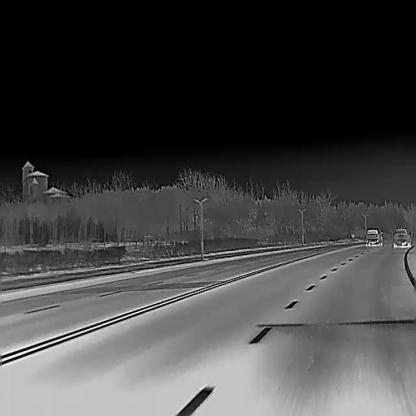car: (392, 227, 411, 248), (365, 227, 383, 245)
